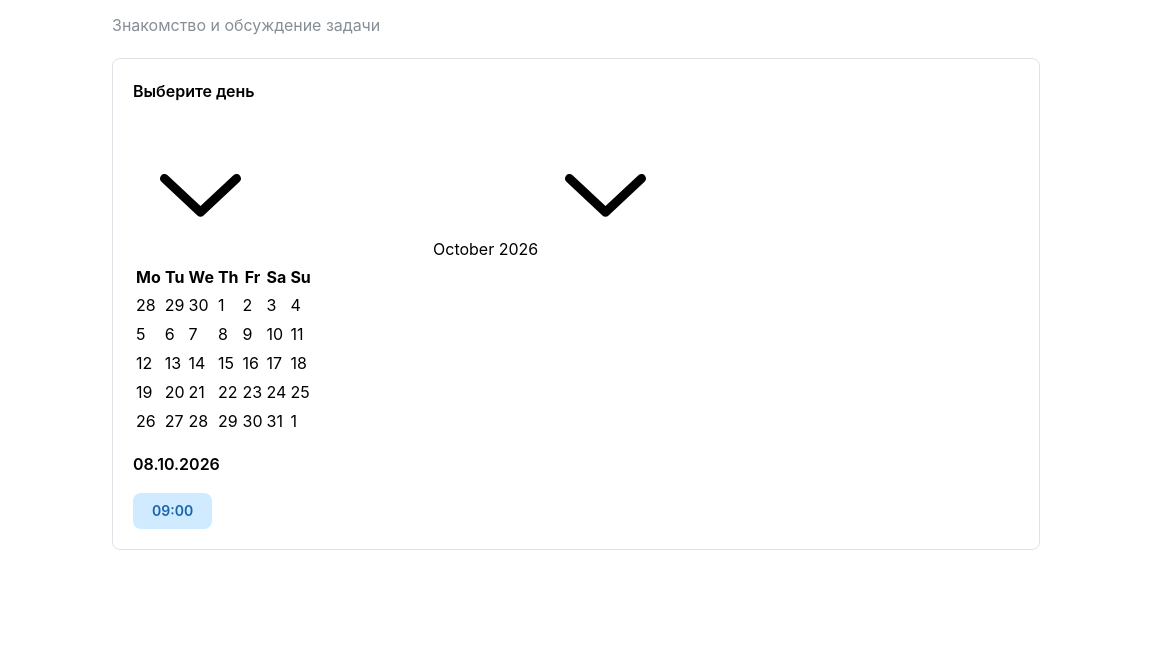
Test: BookingPage (запись на слот) › подсвечивает невалидные поля без отправки запроса
Click the button "09:00".
click(173, 511)  # box [133, 493, 212, 529]
(page scrolled)
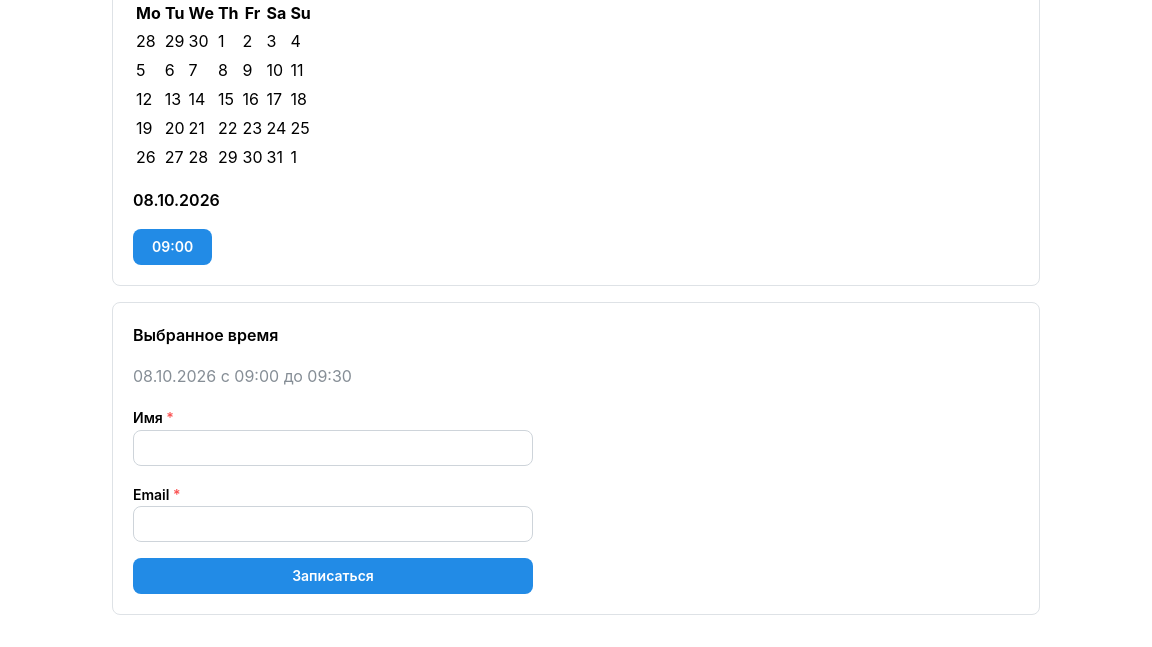
Click the button "Записаться".
click(333, 576)  # box [133, 558, 533, 594]
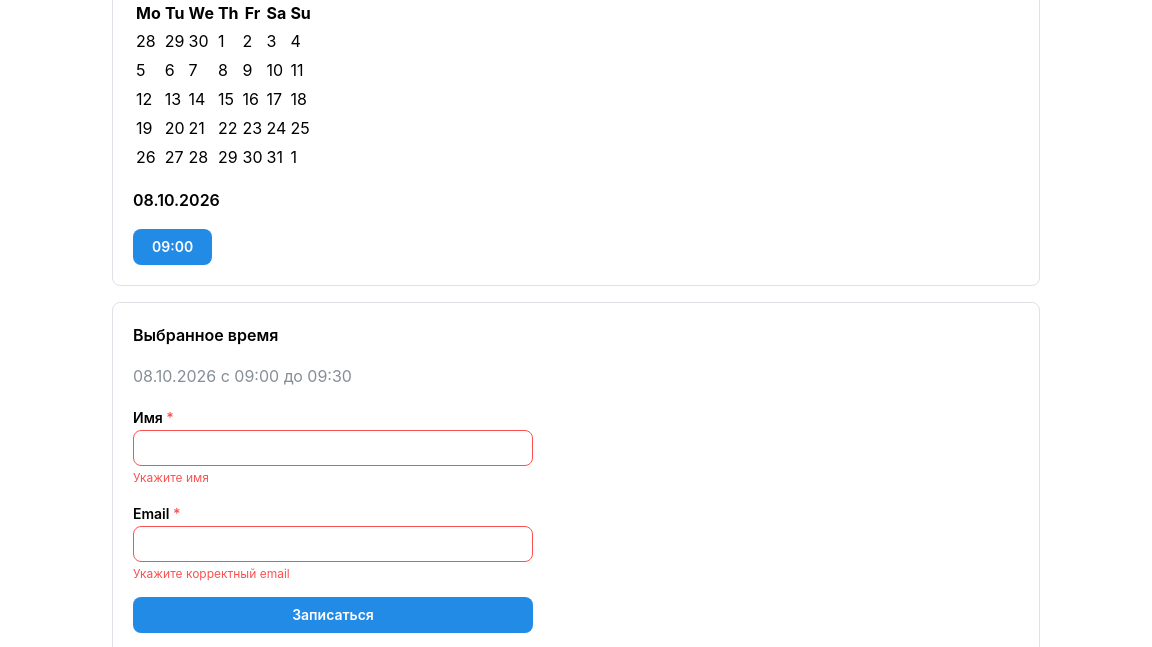
Expected: the text "Укажите имя" is shown, [133, 470, 209, 484]
Expected: the text "Укажите корректный email" is shown, [133, 566, 290, 581]
